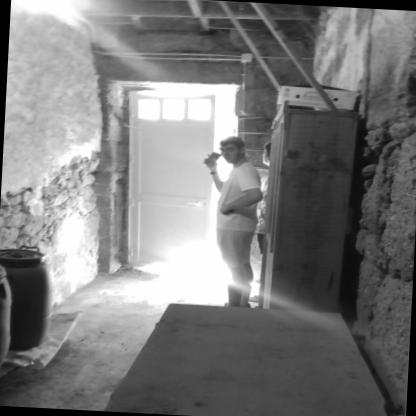semi: (83, 61, 258, 298)
